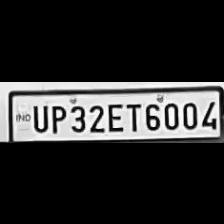0: (160, 98, 180, 130), (180, 98, 198, 128)
2: (86, 100, 104, 132)
3: (67, 100, 87, 132)
4: (198, 97, 218, 128)
6: (142, 99, 160, 130)
E: (104, 100, 124, 132)
P: (47, 102, 66, 132)
T: (124, 99, 140, 131)
U: (29, 102, 49, 132)
